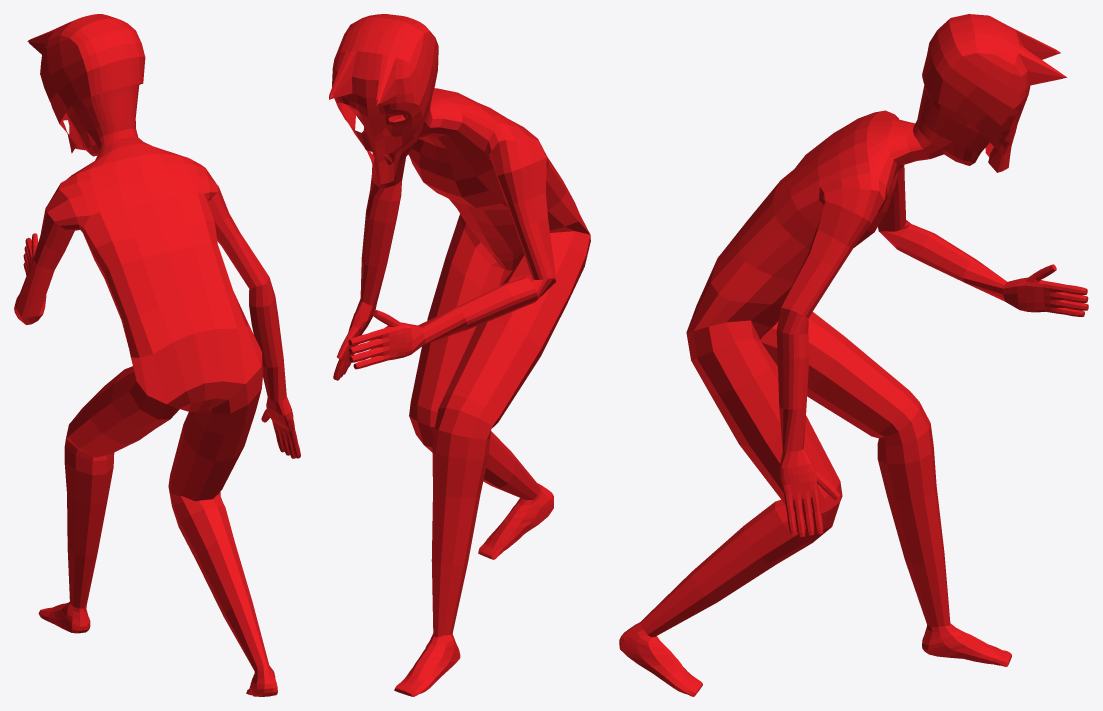
The model's file is saltoadelanteE_000146.obj.
3 renders of one model, left to right at view 1: azimuth 30°, elevation 25°; view 2: azimuth 150°, elevation 25°; view 3: azimuth 270°, elevation 25°, orthographic. The views are drawn at different scales.
Parts seen in each view (by area): view 1: Plane.002_Plane.001; view 2: Plane.002_Plane.001; view 3: Plane.002_Plane.001.
Boxes of the visible parts, <box> form: Plane.002_Plane.001: <box>14,14,300,696</box>; Plane.002_Plane.001: <box>329,14,590,696</box>; Plane.002_Plane.001: <box>619,14,1088,696</box>.
Size of the model in its own units: 2.38 by 5.7 by 3.69.
